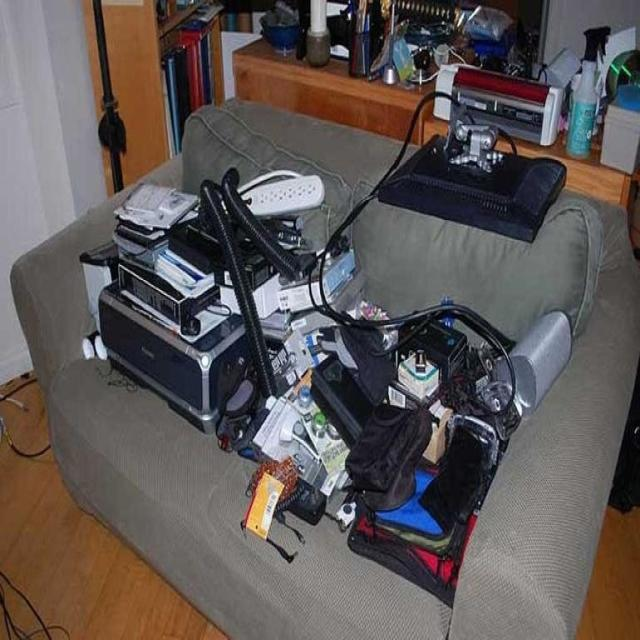Cable: (307, 156, 416, 322)
E-waste: (98, 160, 540, 582), (316, 0, 605, 134), (407, 124, 562, 250)
